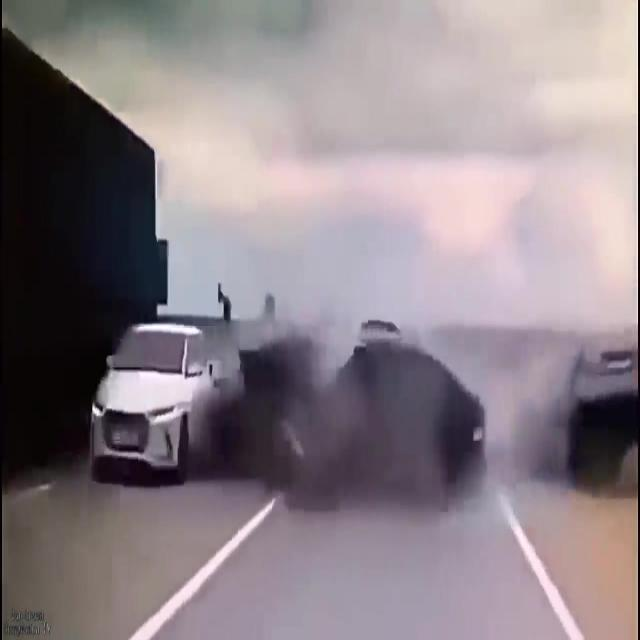accident: (240, 298, 506, 524)
